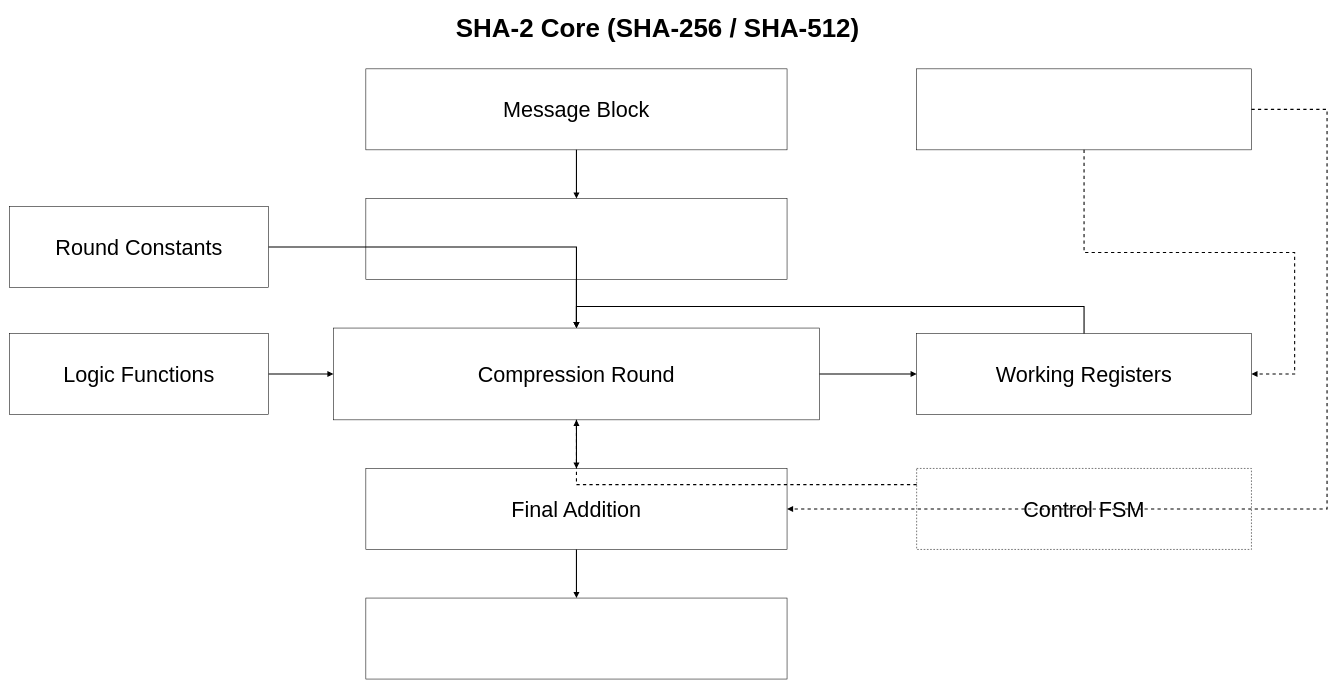
Image size: 1341x689. Some labels were removed from this diagram. The centre of each missing label's shape, as x and y in pixels:
Hash Output: pixel 576 638
Initial Hash (IV): pixel 1083 109
Message Schedule: pixel 576 238
